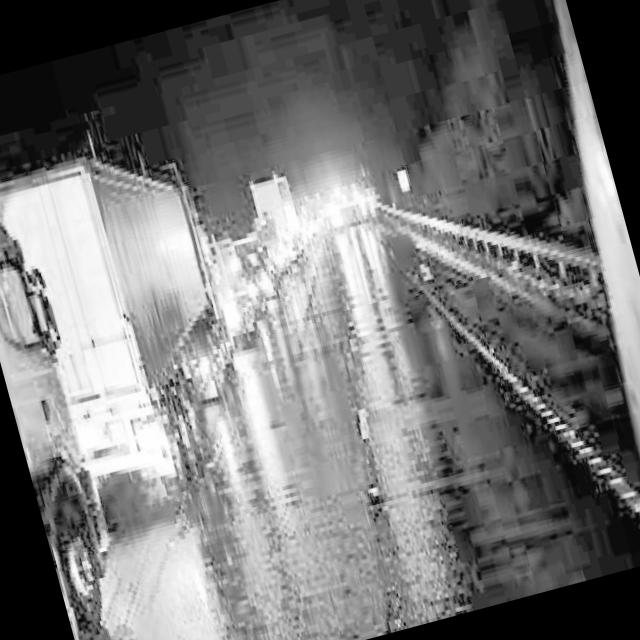Truck: (0, 126, 272, 533), (0, 77, 142, 640)
